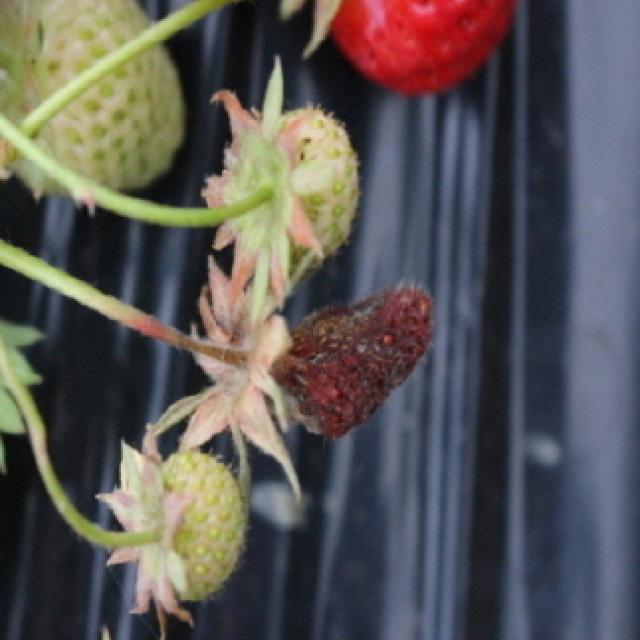Gray Mold: (177, 258, 434, 487)
